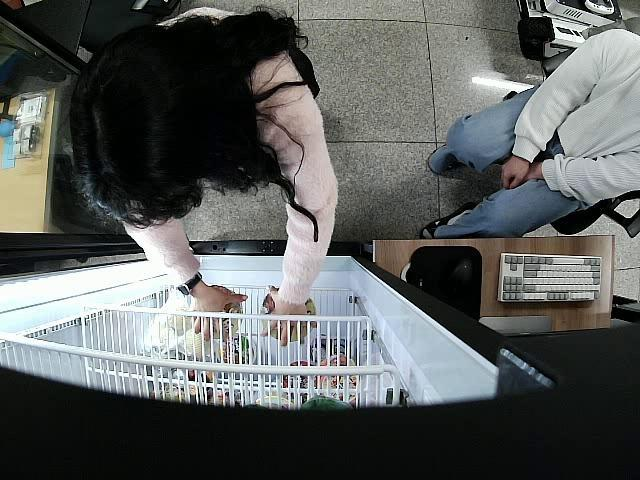03_chapagetti_L: (263, 292, 316, 340), (212, 284, 245, 338)
